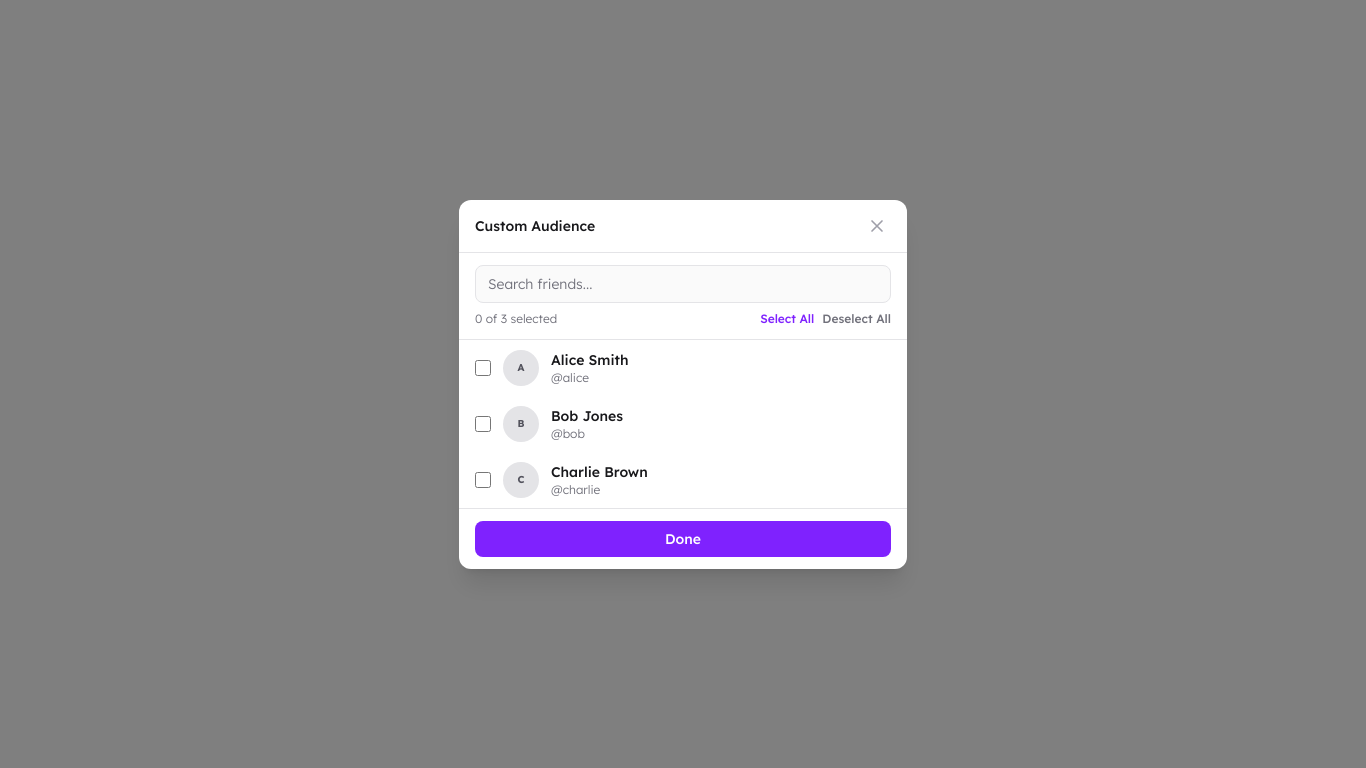
AudiencePicker › shows no results message when search matches nothing
This screenshot has width=1366, height=768.
Check: the text "Alice Smith" is shown, box left=551, top=350, right=628, bottom=370
In the field with test id "audience-search": [683, 284] box left=475, top=264, right=891, bottom=302, type "zzzzz"
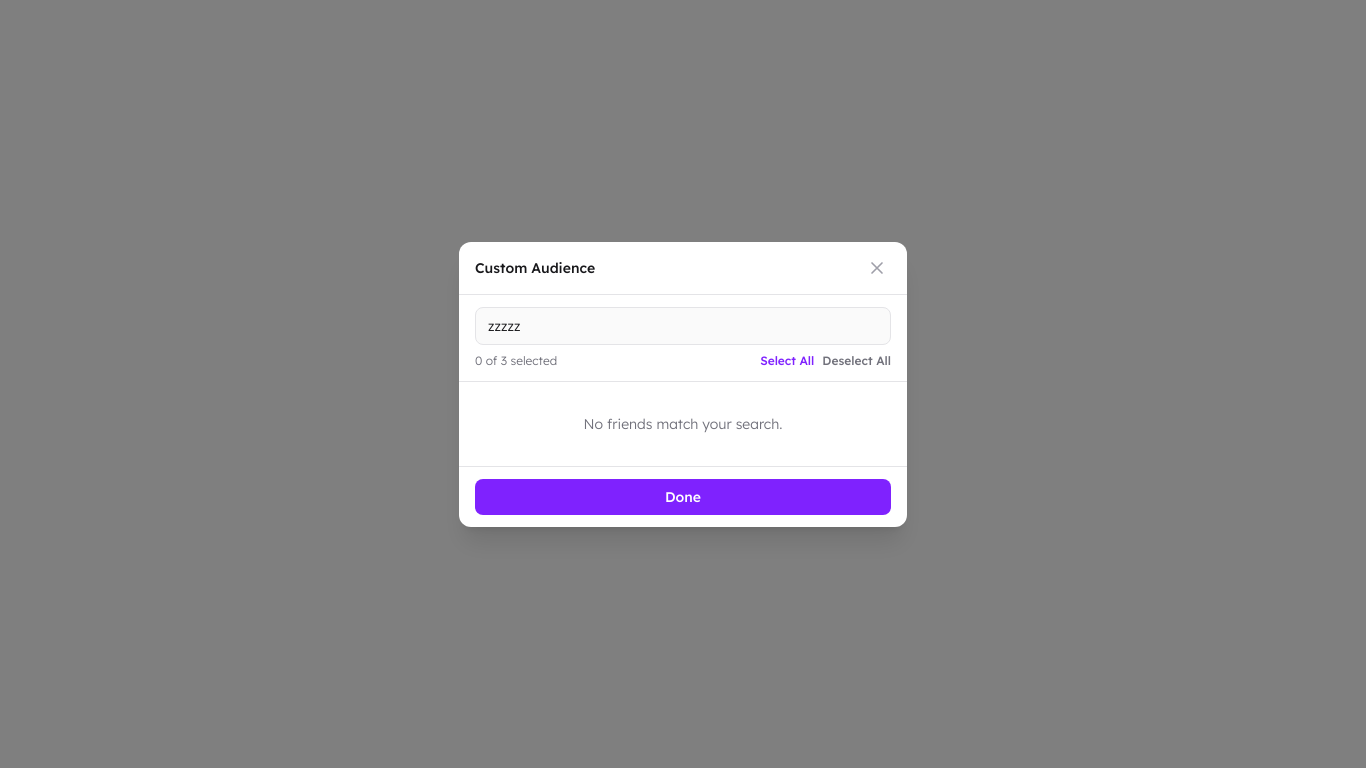
Check: the text "No friends match your search." is shown, box left=584, top=414, right=782, bottom=432
